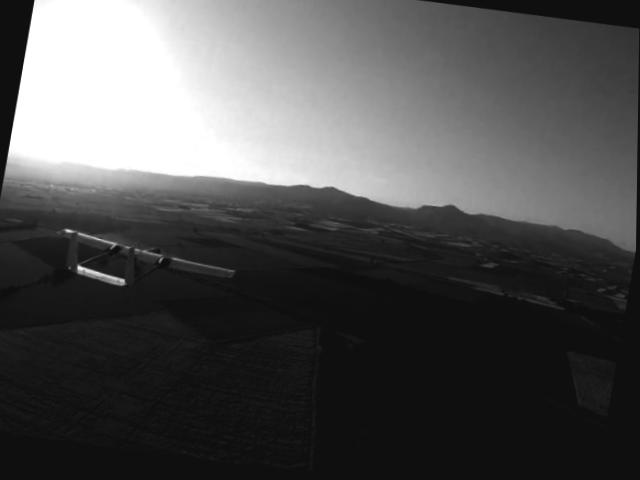hedef: (46, 210, 242, 311)
